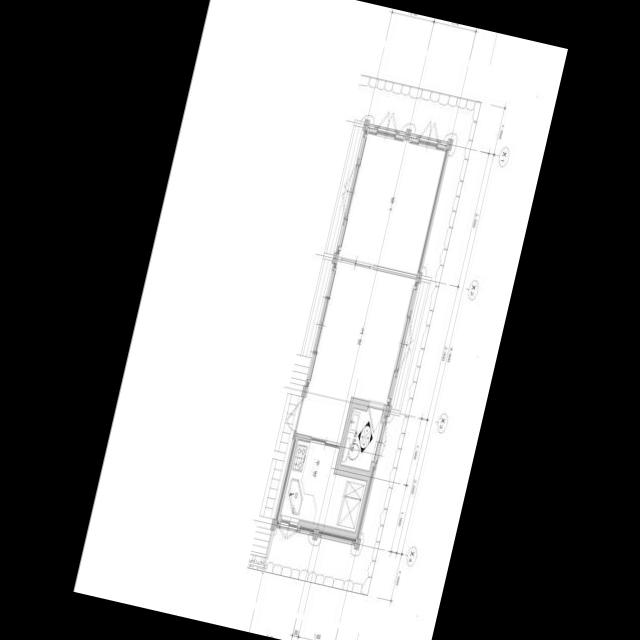background: (73, 0, 567, 640)
space_bedroom: (338, 133, 447, 275)
space_kitchen: (279, 439, 366, 532)
space_living_room: (295, 261, 415, 443)
space_toilet: (339, 407, 383, 471)
